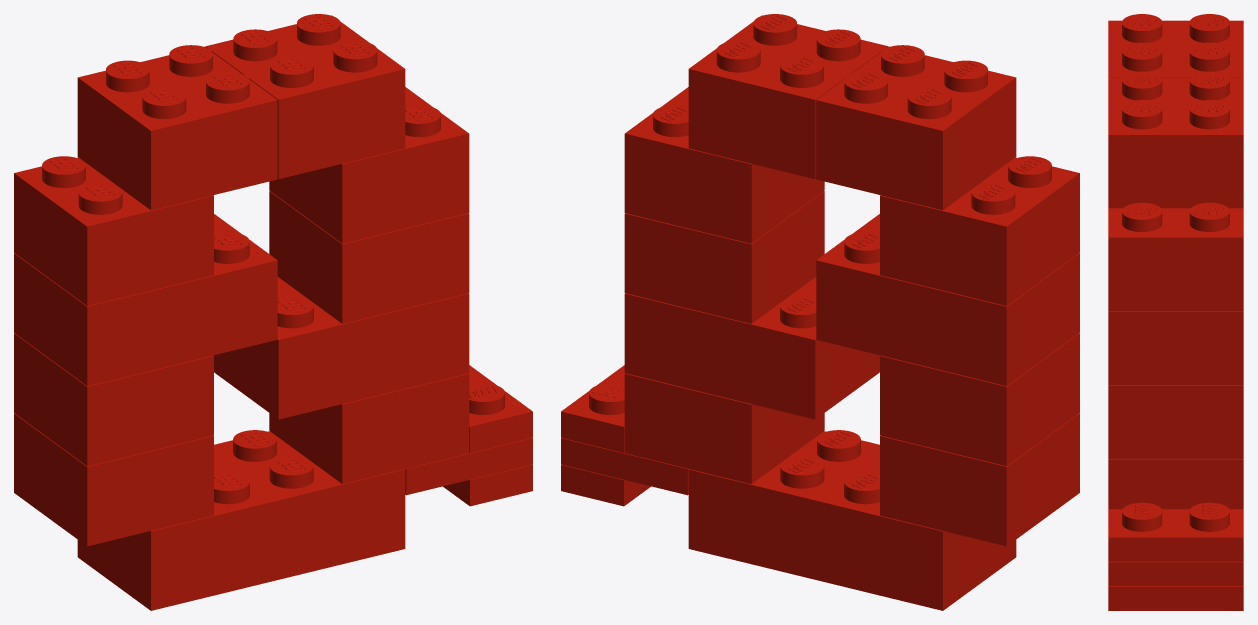
3 renders of one model, left to right at view 1: azimuth 30°, elevation 25°; view 2: azimuth 150°, elevation 25°; view 3: azimuth 270°, elevation 25°, orthographic. The views are drawn at different scales.
Visible parts, largest first — view 1: Inner-Node-Q_dot_io-8, Inner-Node-Q_dot_io-6, Inner-Node-Q_dot_io-9, Inner-Node-Q_dot_io-3, Inner-Node-Q_dot_io-10, Inner-Node-Q_dot_io-7, Inner-Node-Q_dot_io-2, Inner-Node-Q_dot_io-0, Inner-Node-Q_dot_io-1, Inner-Node-Q_dot_io-4, Inner-Node-Q_dot_io-5, Inner-Node-Q_dot_io-13 (+2 smaller); view 2: Inner-Node-Q_dot_io-8, Inner-Node-Q_dot_io-6, Inner-Node-Q_dot_io-9, Inner-Node-Q_dot_io-3, Inner-Node-Q_dot_io-10, Inner-Node-Q_dot_io-7, Inner-Node-Q_dot_io-2, Inner-Node-Q_dot_io-0, Inner-Node-Q_dot_io-1, Inner-Node-Q_dot_io-4, Inner-Node-Q_dot_io-5, Inner-Node-Q_dot_io-13 (+2 smaller); view 3: Inner-Node-Q_dot_io-7, Inner-Node-Q_dot_io-4, Inner-Node-Q_dot_io-1, Inner-Node-Q_dot_io-10, Inner-Node-Q_dot_io-6, Inner-Node-Q_dot_io-13, Inner-Node-Q_dot_io-5, Inner-Node-Q_dot_io-11, Inner-Node-Q_dot_io-12.
Part boxes in pixels (x1,y1,x2,y2): Inner-Node-Q_dot_io-8: (77, 430, 405, 610); Inner-Node-Q_dot_io-6: (77, 45, 277, 210); Inner-Node-Q_dot_io-9: (14, 214, 277, 385); Inner-Node-Q_dot_io-3: (14, 156, 213, 305); Inner-Node-Q_dot_io-10: (213, 277, 469, 419); Inner-Node-Q_dot_io-7: (205, 14, 405, 179); Inner-Node-Q_dot_io-2: (14, 413, 213, 546); Inner-Node-Q_dot_io-0: (14, 333, 213, 466); Inner-Node-Q_dot_io-1: (269, 191, 469, 323); Inner-Node-Q_dot_io-4: (269, 87, 469, 243); Inner-Node-Q_dot_io-5: (269, 373, 469, 483); Inner-Node-Q_dot_io-13: (469, 365, 532, 452); Inner-Node-Q_dot_io-8: (688, 430, 1016, 610); Inner-Node-Q_dot_io-6: (816, 45, 1016, 210); Inner-Node-Q_dot_io-9: (816, 214, 1079, 385); Inner-Node-Q_dot_io-3: (880, 156, 1079, 305); Inner-Node-Q_dot_io-10: (624, 277, 880, 419); Inner-Node-Q_dot_io-7: (688, 14, 888, 179); Inner-Node-Q_dot_io-2: (880, 413, 1079, 546); Inner-Node-Q_dot_io-0: (880, 333, 1079, 466); Inner-Node-Q_dot_io-1: (624, 191, 824, 323); Inner-Node-Q_dot_io-4: (624, 87, 824, 243); Inner-Node-Q_dot_io-5: (624, 373, 824, 483); Inner-Node-Q_dot_io-13: (561, 365, 624, 452); Inner-Node-Q_dot_io-7: (1108, 71, 1243, 208); Inner-Node-Q_dot_io-4: (1108, 202, 1243, 310); Inner-Node-Q_dot_io-1: (1108, 311, 1243, 384); Inner-Node-Q_dot_io-10: (1108, 385, 1243, 458); Inner-Node-Q_dot_io-6: (1108, 14, 1243, 77); Inner-Node-Q_dot_io-13: (1108, 502, 1243, 561); Inner-Node-Q_dot_io-5: (1108, 459, 1243, 509); Inner-Node-Q_dot_io-11: (1108, 561, 1243, 586); Inner-Node-Q_dot_io-12: (1108, 586, 1243, 610).
Bounding box in the file's own units: 140 × 148 × 39.75.
